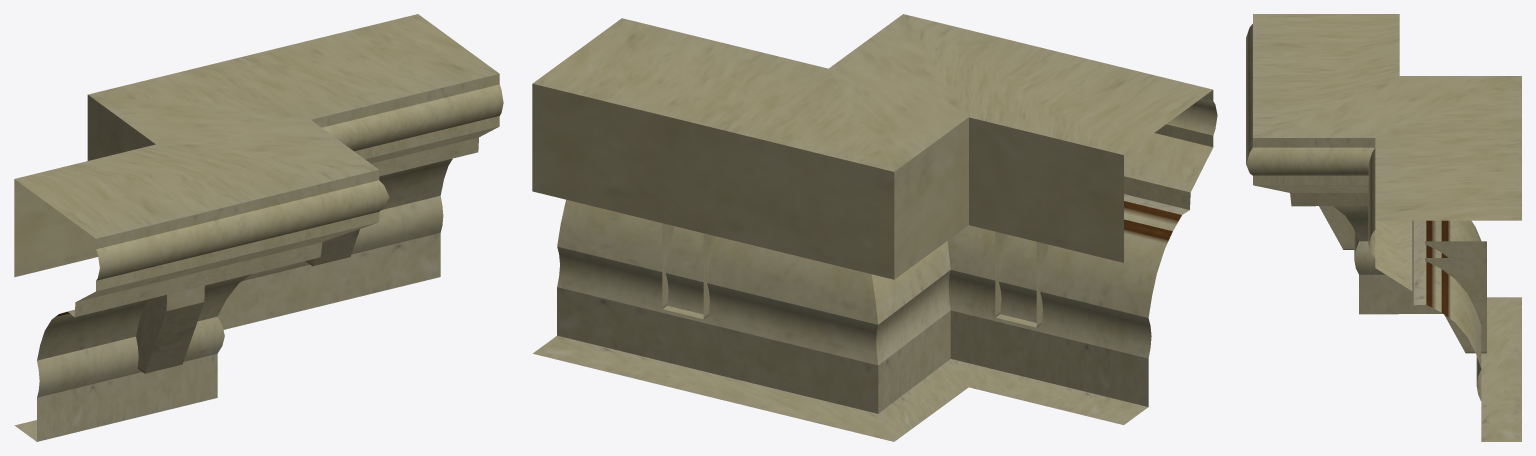
File: cornice_trim_90angle_l.glb
The picture shows the model from 3 angles, left to right: view 1: azimuth 30°, elevation 25°; view 2: azimuth 150°, elevation 25°; view 3: azimuth 270°, elevation 25°; orthographic projection. The views are drawn at different scales.
Parts seen in each view (by area): view 1: Cornice_Trim_90Angle_L; view 2: Cornice_Trim_90Angle_L; view 3: Cornice_Trim_90Angle_L.
Boxes of the visible parts, x1,y1,x2,y2 form: Cornice_Trim_90Angle_L: (14,14,503,441); Cornice_Trim_90Angle_L: (532,14,1217,441); Cornice_Trim_90Angle_L: (1246,14,1521,441).
Bounding box in the file's own units: 2 × 0.9984 × 1.13.
Materials: 1 (1 with a texture image).
